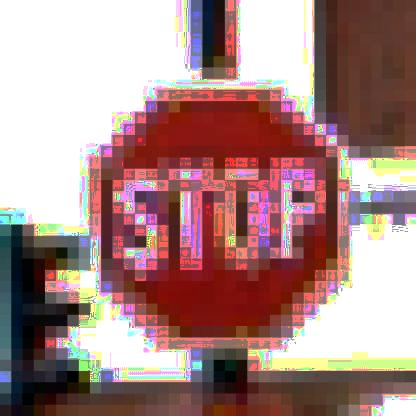Stop Sign: (82, 75, 351, 349)
